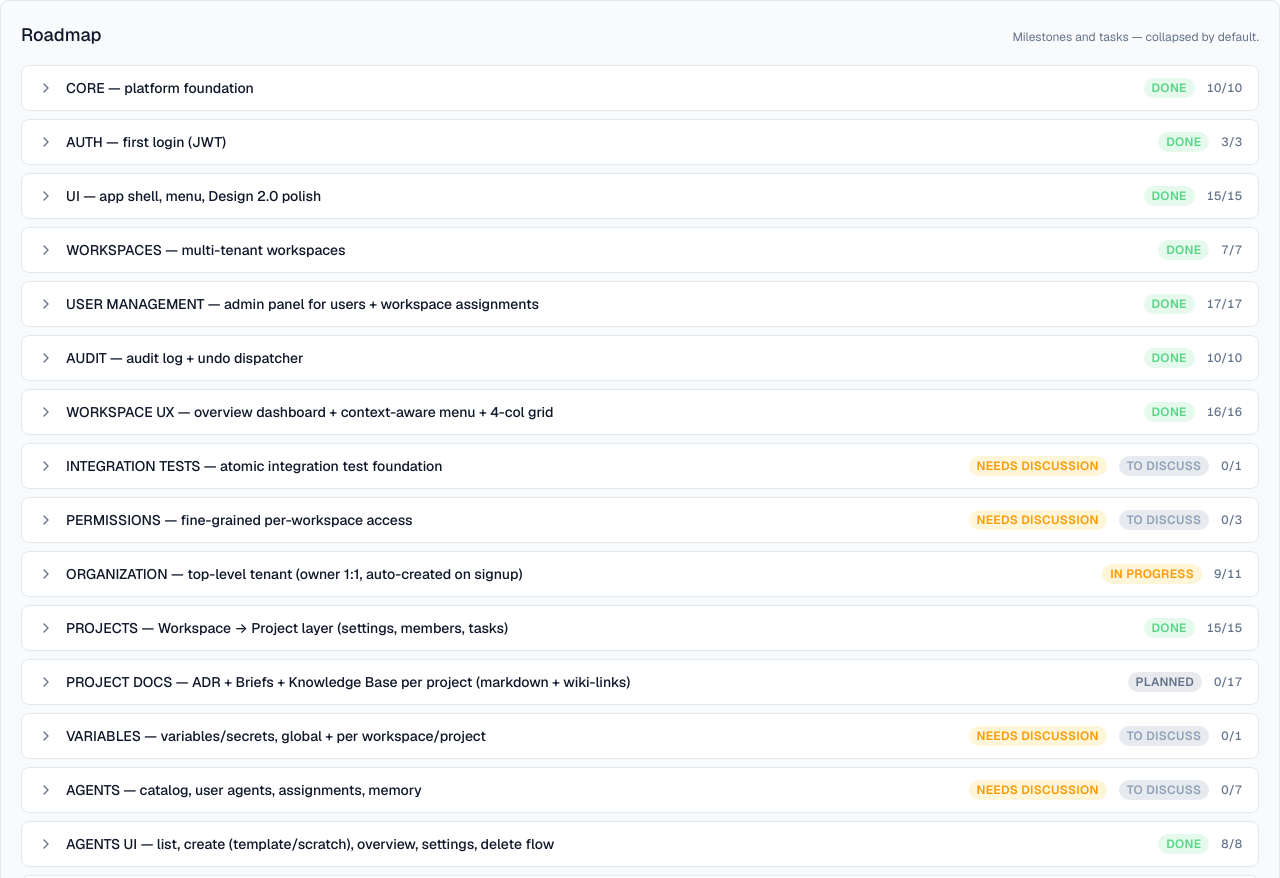
Test: RoadmapPanel › should render the ORGANIZATION milestone with BL-ORG tasks, done commits and deferred planned entries
The image size is (1280, 878).
Click the text "ORGANIZATION — top-level tenant" at (294, 574), box [66,565,522,583]
(page scrolled)
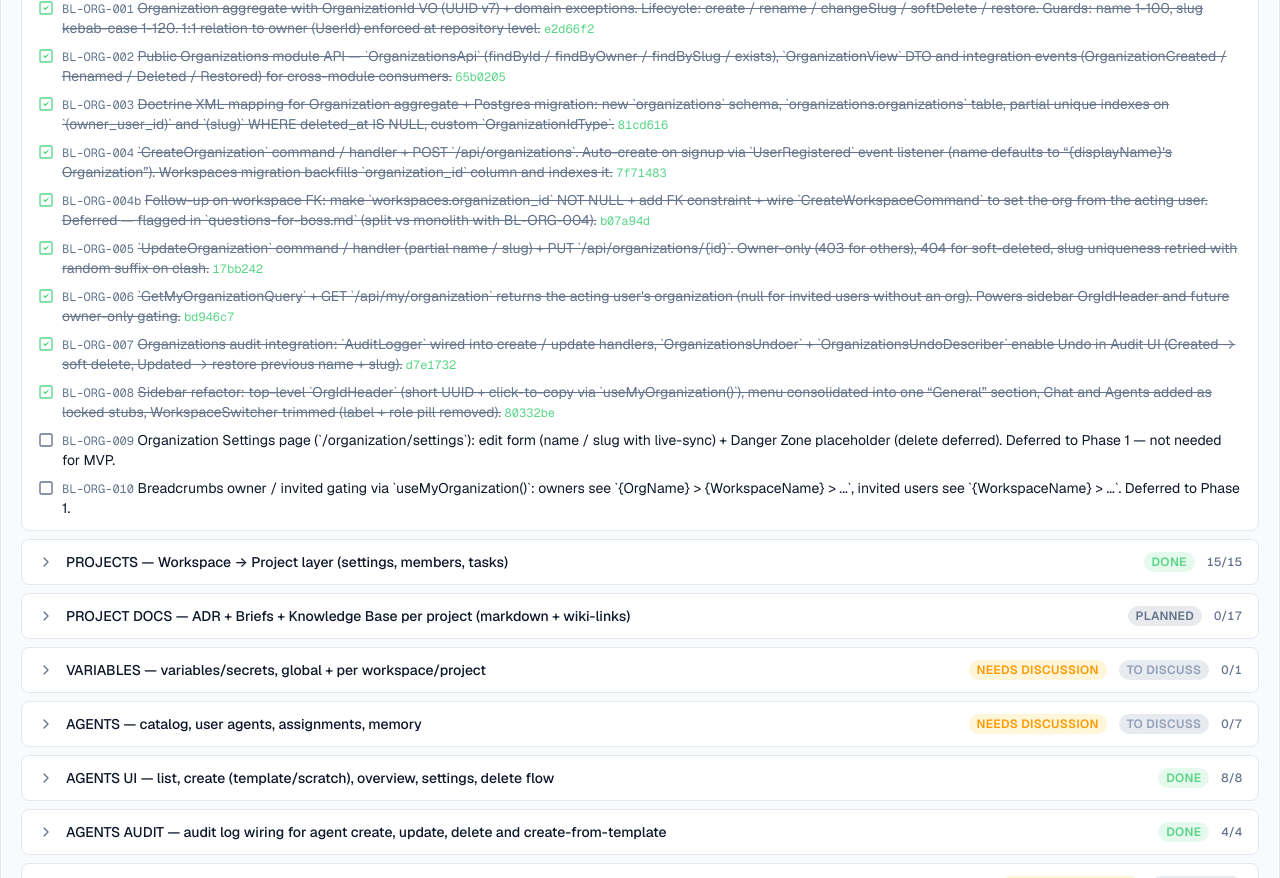
Now the text "BL-ORG-001" is shown, box [62,1,134,17]
Now the text "BL-ORG-004b" is shown, box [62,193,141,209]
Now the text "BL-ORG-008" is shown, box [62,385,134,401]
